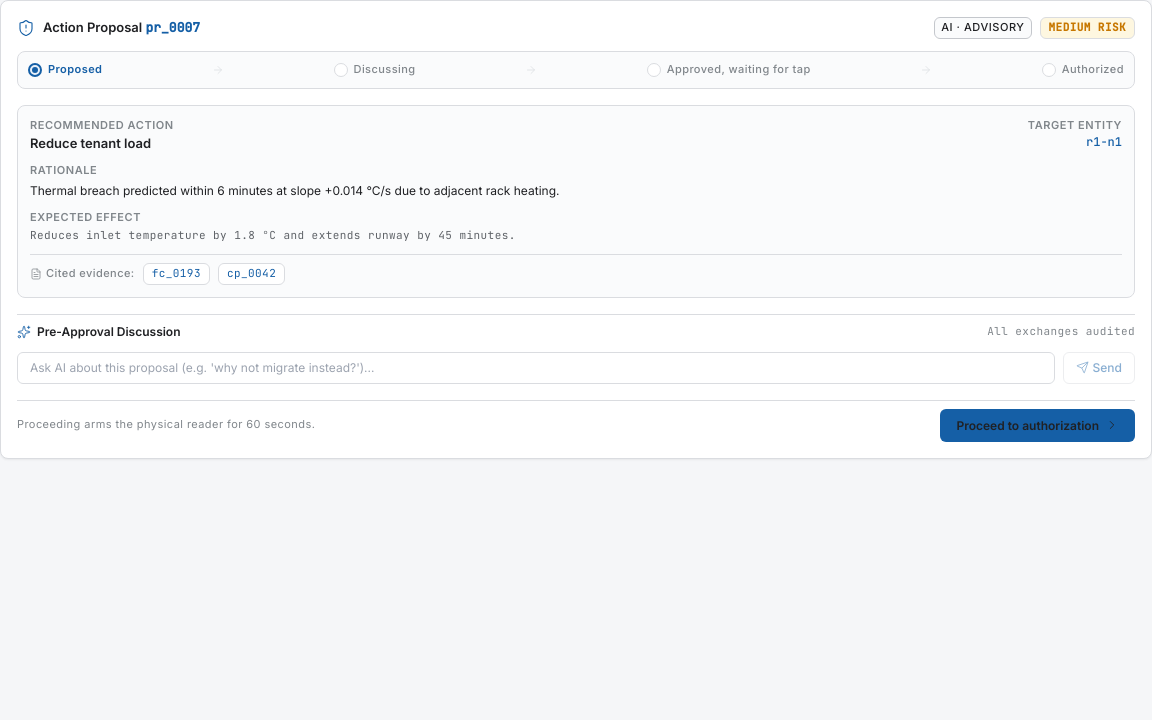
Test: Phase 6 Approval, AI Advisory, and Audit Log Tests › ProposalCard Component › supports pre-approval discussion with revision diffing
The width and height of the screenshot is (1152, 720).
Replace the text in the field labelled "Ask AI about this proposal" with "Why not migrate instead?" at point(536, 368), box [17,352,1055,384]
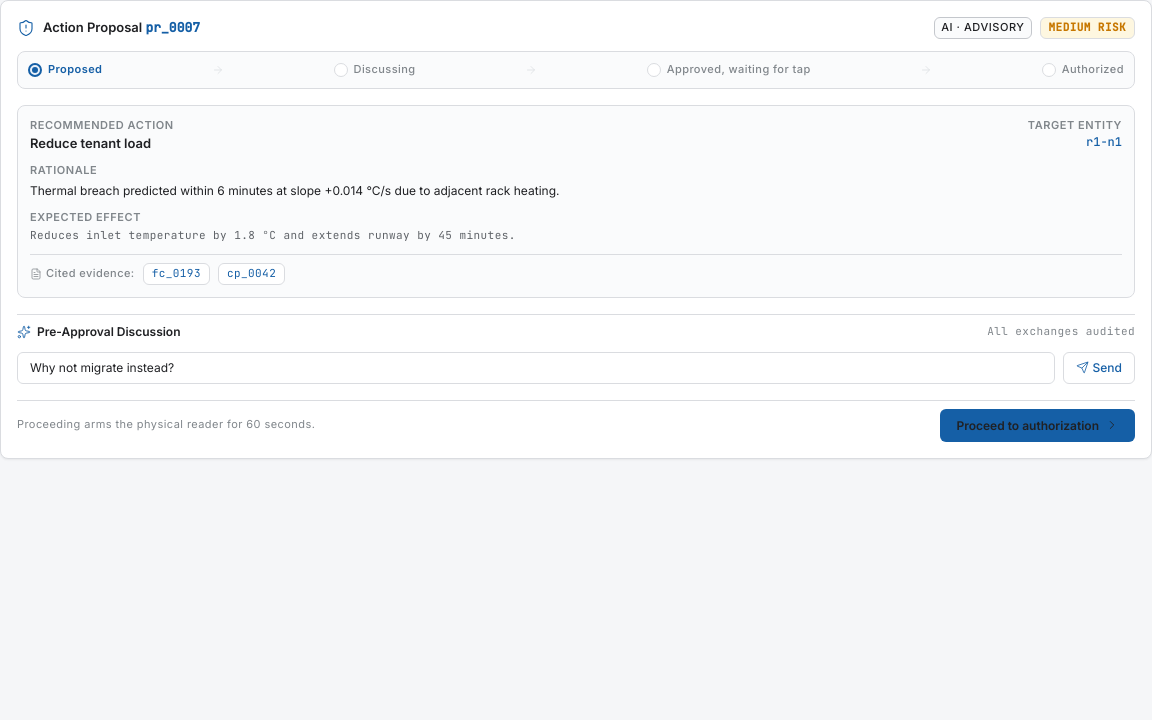
Click the button "Send" at point(1099, 368), box [1063,352,1135,384]
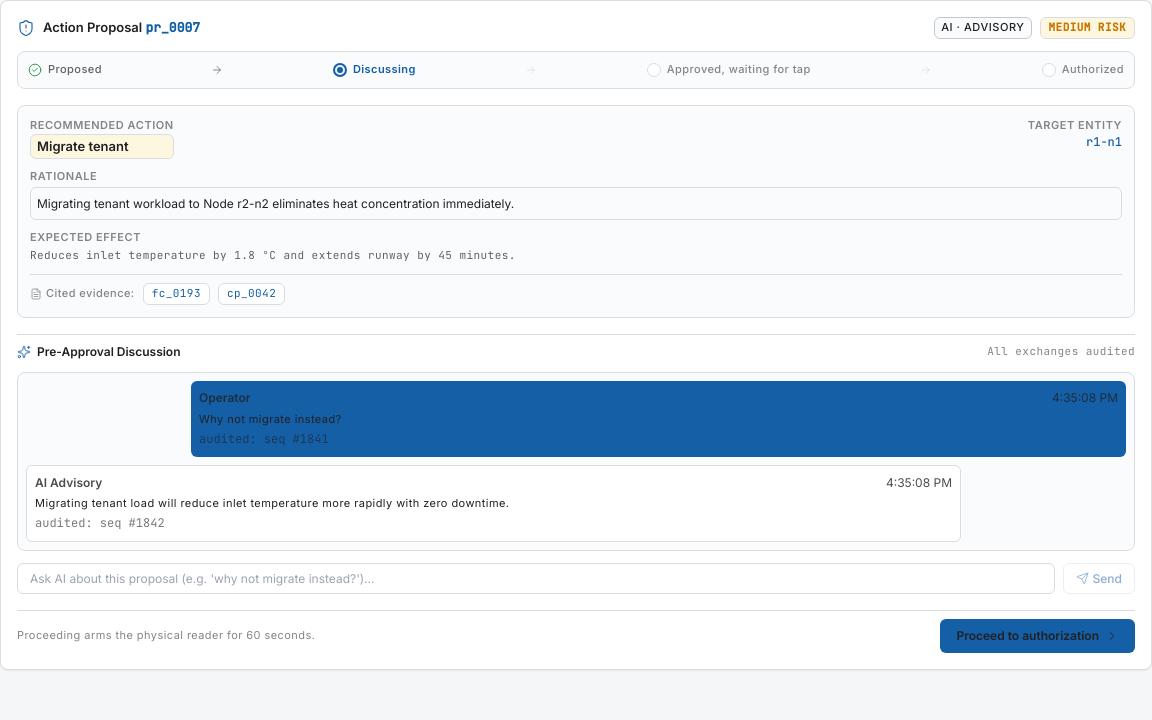
Result: the text "Why not migrate instead?" is shown at [199,412,342,426]
Result: the text "Migrate tenant" is shown at [30,134,174,159]
